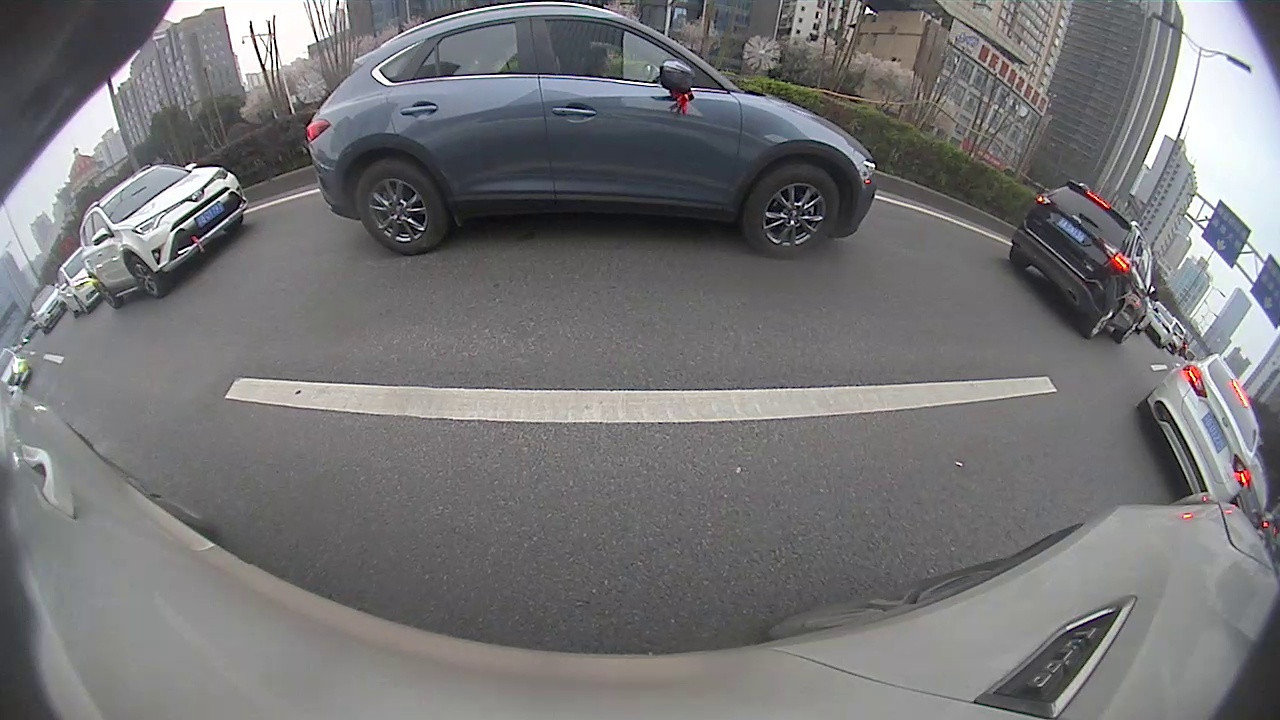car: (303, 2, 879, 260), (77, 162, 248, 309), (1007, 180, 1154, 343), (1137, 352, 1262, 507)
front: (742, 166, 841, 258), (127, 259, 160, 298)
rear: (356, 157, 447, 255), (1086, 301, 1122, 340), (91, 274, 117, 310)
